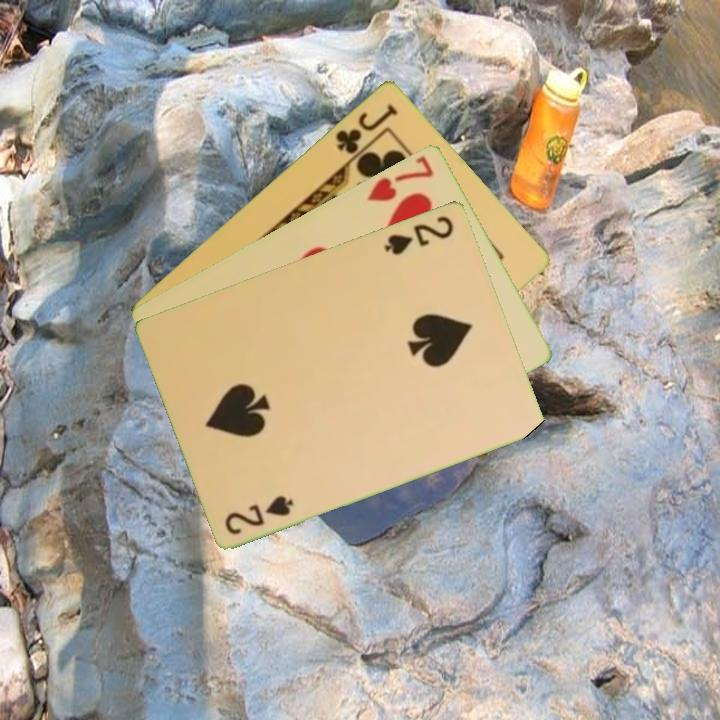2s: (380, 211, 457, 258), (221, 491, 297, 537)
7h: (363, 151, 437, 204)
Jc: (331, 100, 401, 157)
